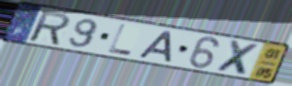6: (187, 36, 221, 70)
9: (69, 18, 99, 50)
A: (136, 29, 176, 64)
L: (106, 23, 135, 57)
R: (29, 9, 72, 47)
X: (214, 38, 262, 78)
